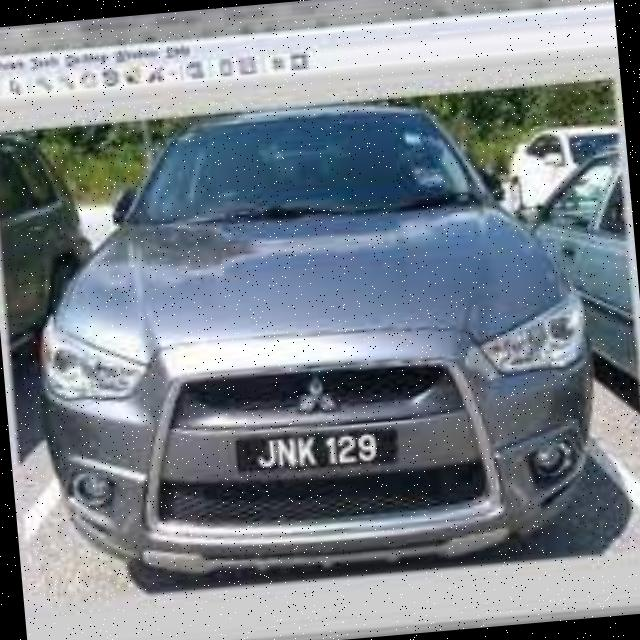License_Plate: (232, 418, 403, 486)
car: (11, 88, 602, 594)
